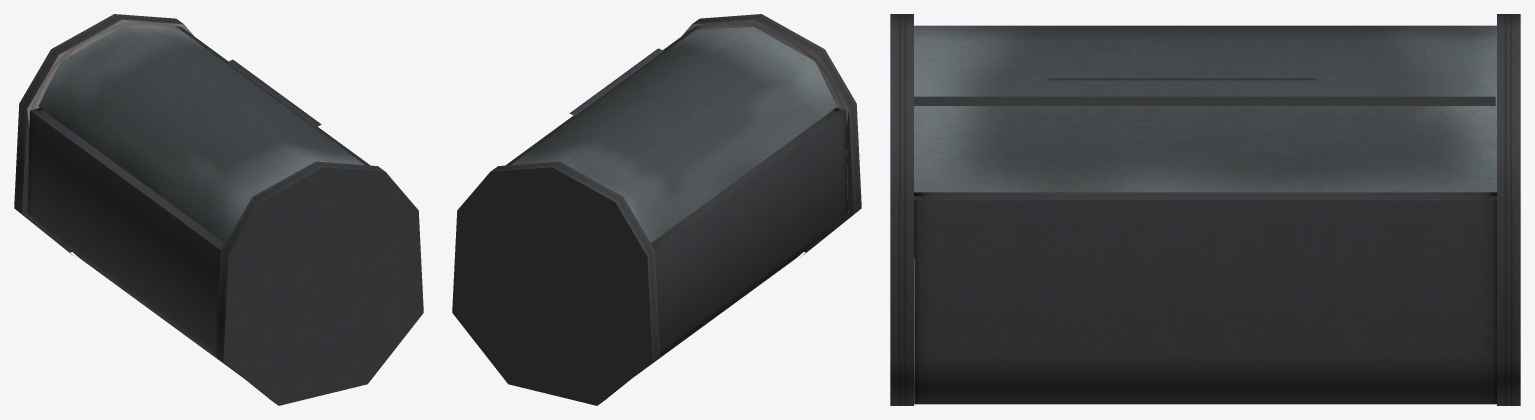
File: nt_2020_fridge_LOD2.obj
3 views of the same model, side by side, from view 1: azimuth 30°, elevation 25°; view 2: azimuth 150°, elevation 25°; view 3: azimuth 270°, elevation 25° (orthographic). The views are drawn at different scales.
Visible parts, largest first — view 1: mtl_nt_2020_fridge_body, mtl_nt_2020_fridge_glass; view 2: mtl_nt_2020_fridge_body, mtl_nt_2020_fridge_glass; view 3: mtl_nt_2020_fridge_body, mtl_nt_2020_fridge_glass.
Part boxes in pixels (x1,y1,x2,y2): mtl_nt_2020_fridge_body: (14,14,423,405); mtl_nt_2020_fridge_glass: (38,27,364,242); mtl_nt_2020_fridge_body: (452,14,861,405); mtl_nt_2020_fridge_glass: (511,27,837,242); mtl_nt_2020_fridge_body: (890,14,1520,405); mtl_nt_2020_fridge_glass: (914,25,1496,192).
Bounding box in the file's own units: 112 × 122 × 203.
